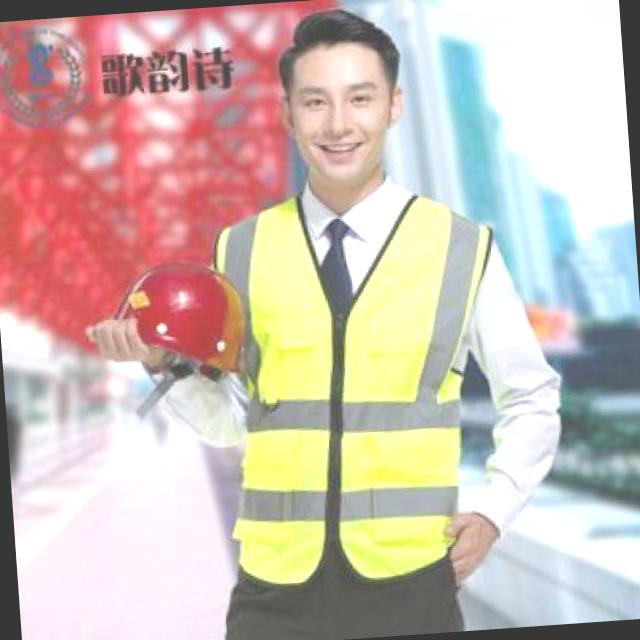vest: (201, 205, 506, 594)
